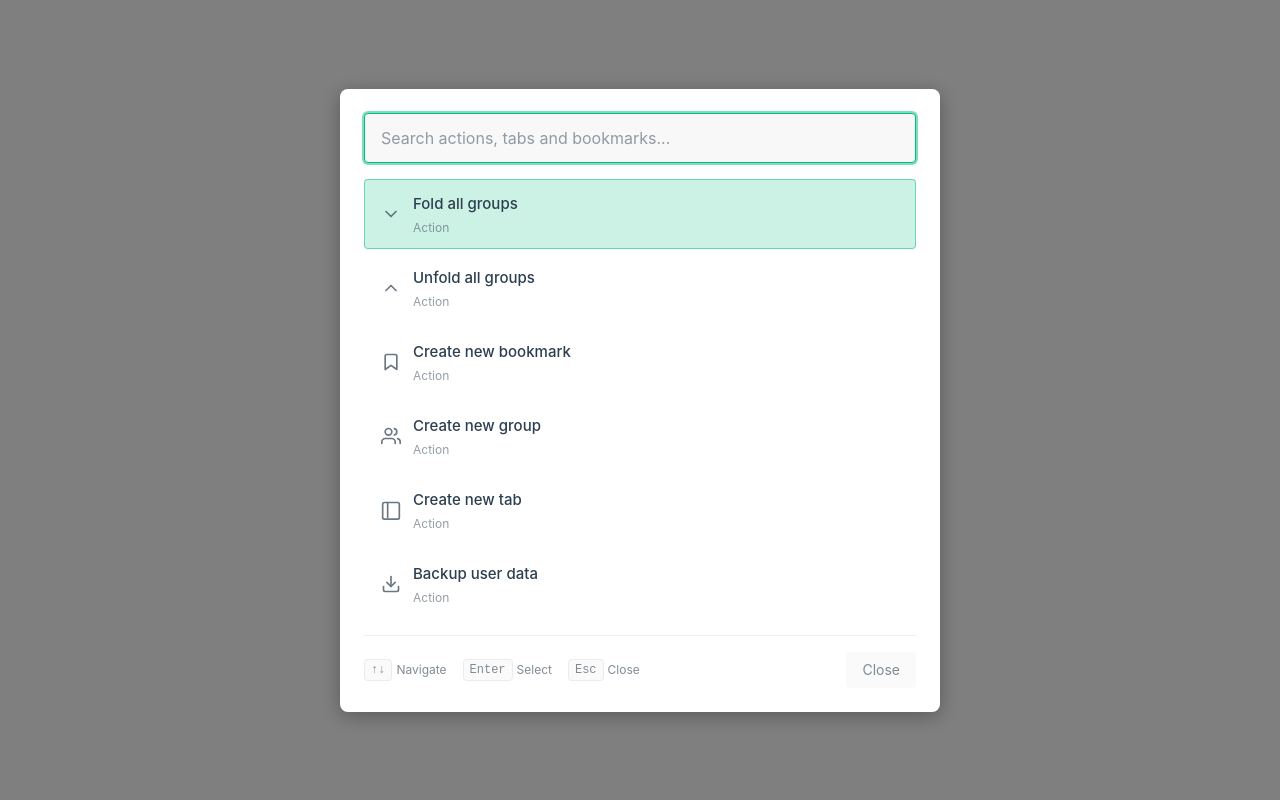
Test: CommandPalette › searches for bookmarks
Type "Test Bookmark" into the field with placeholder "Search actions, tabs and bookmarks..." at point(640, 138), box [364,112,916,162]
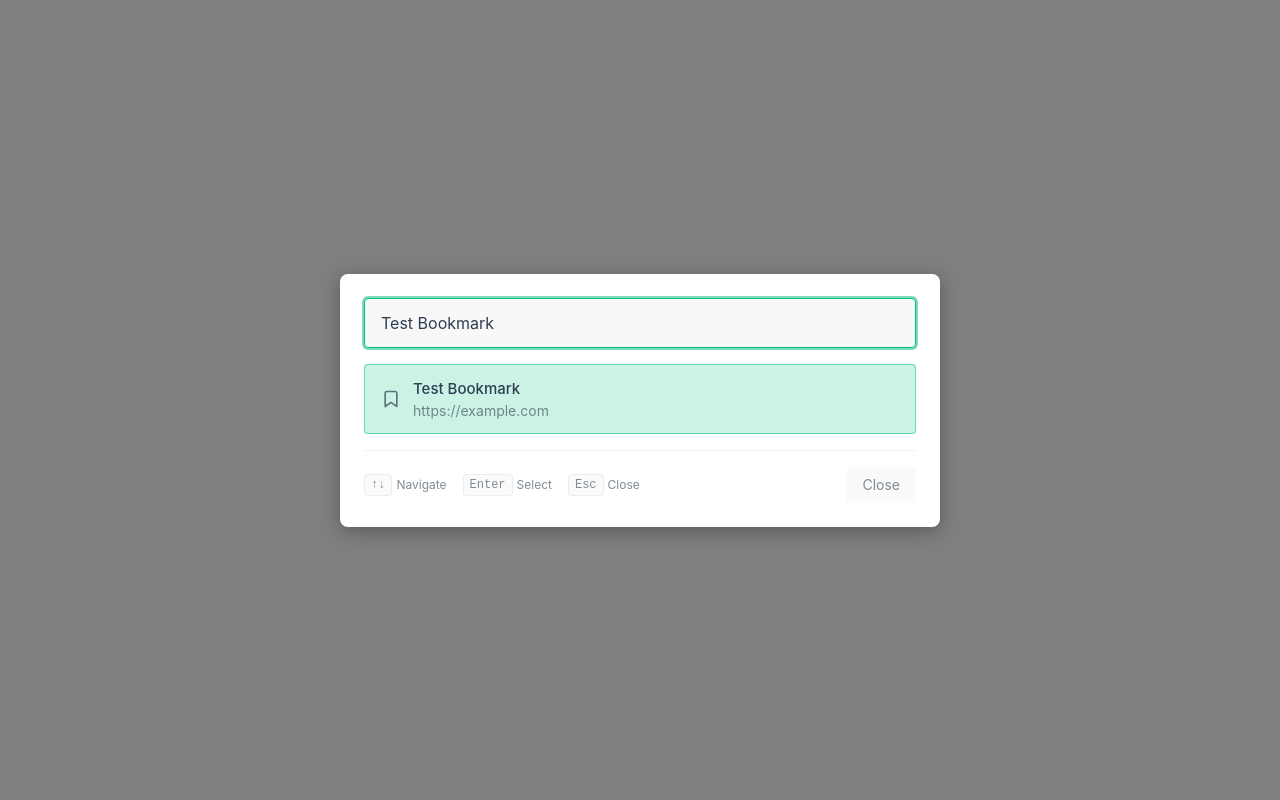
Check: the list item "Test Bookmark https://example.com" is shown, box [364,364,916,434]
